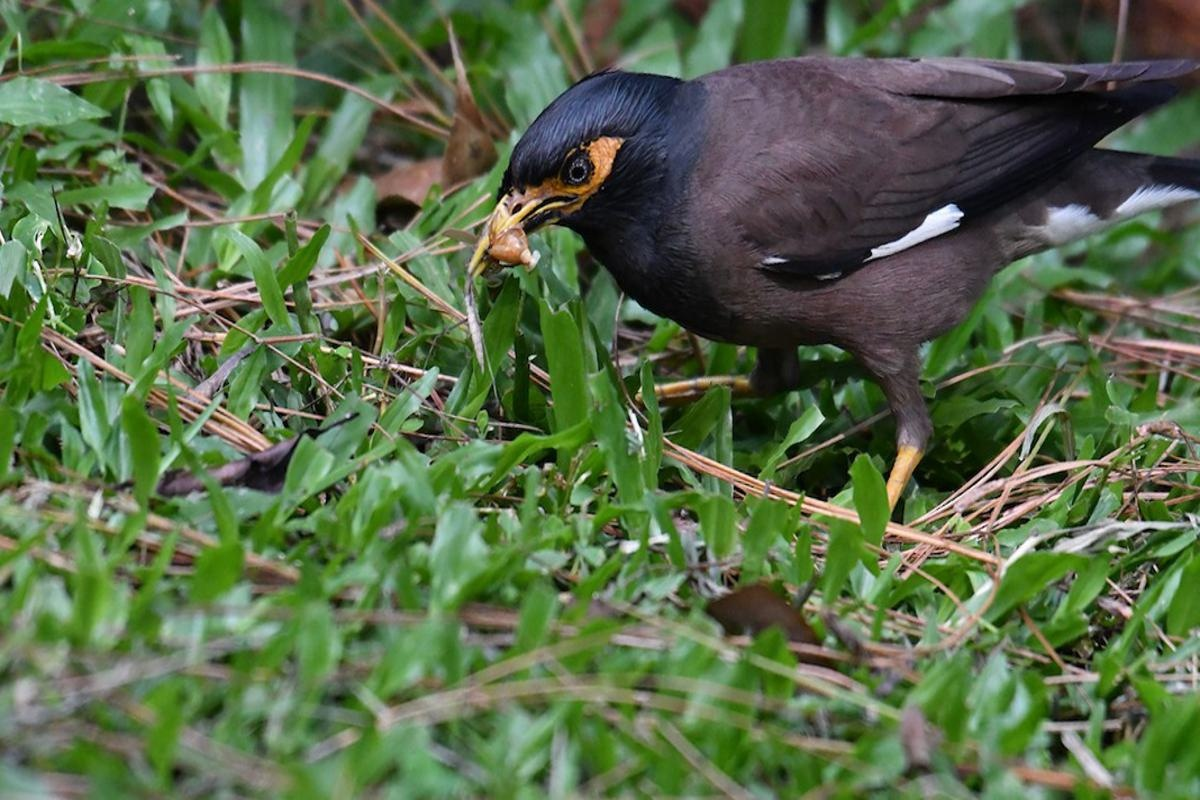myna: (461, 44, 1200, 626)
